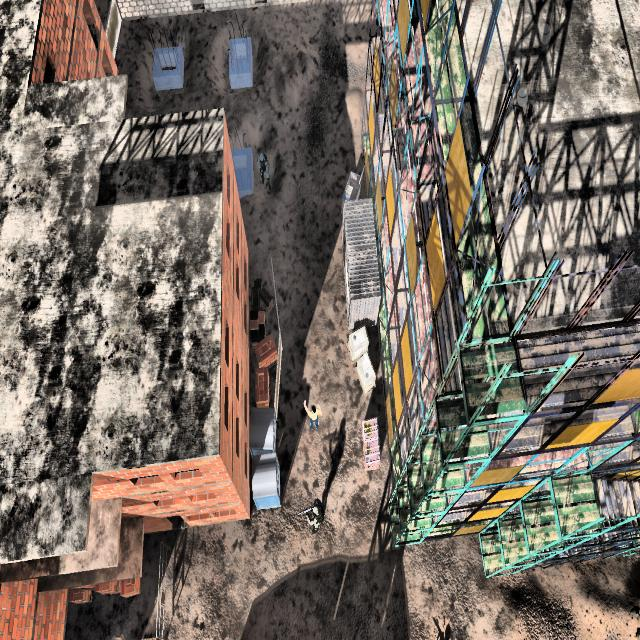bad: (298, 491, 330, 542), (253, 144, 274, 195)
good: (298, 390, 331, 445)
